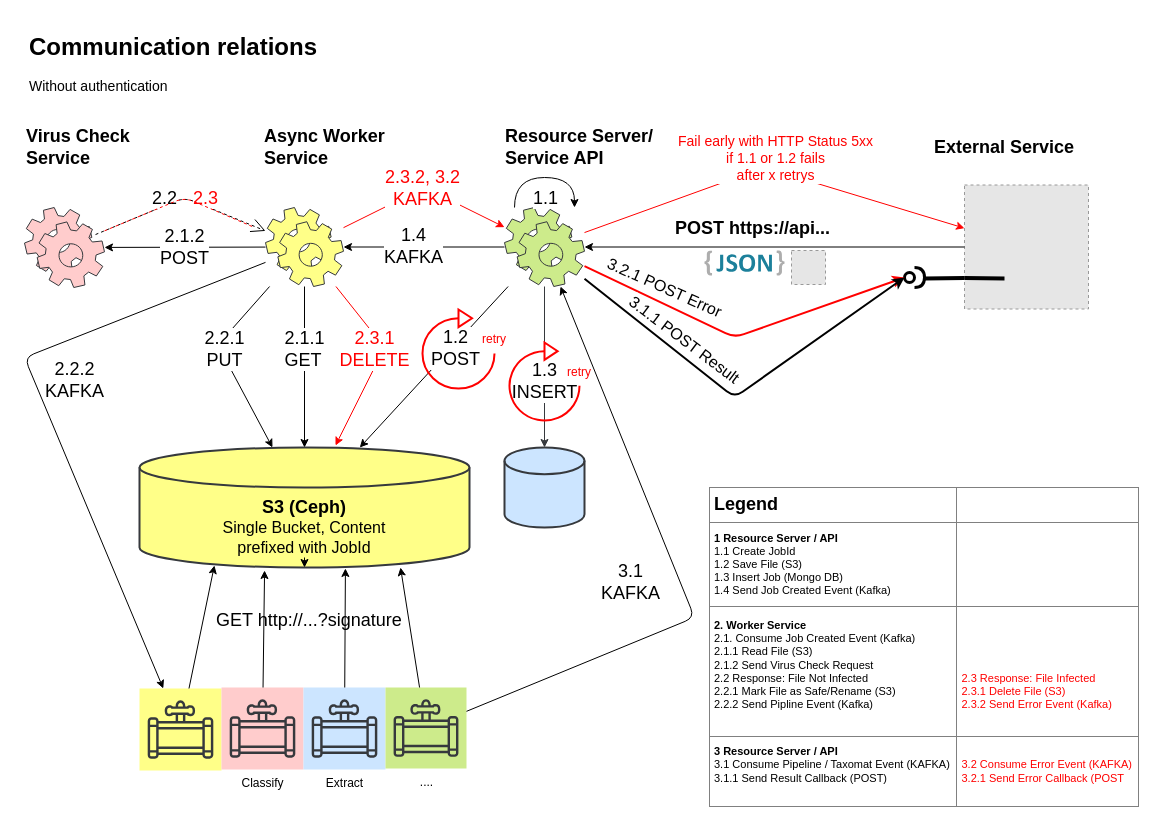
This 1157x824 diagram has some shape labels left out. Grey dashed boxes stand in for pictures. The centre of each missing label's shape, as x and y in pixels:
"DB" goes at (544,487).
"OCR" goes at (180,729).
